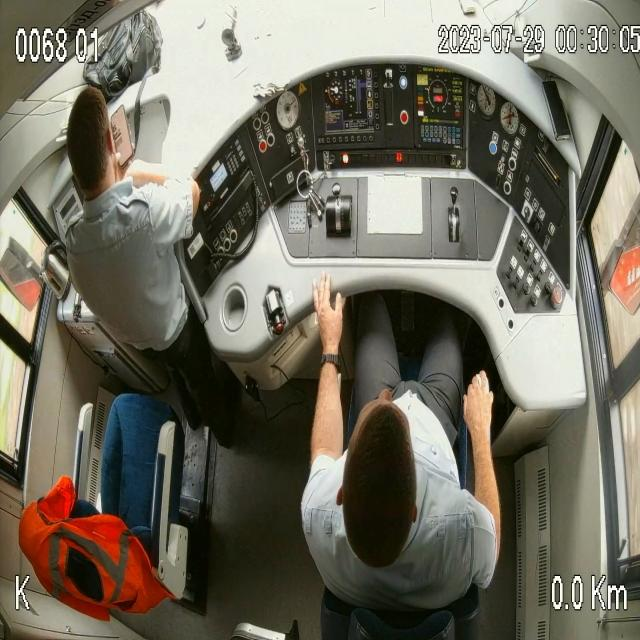smartphone: (108, 102, 135, 172)
